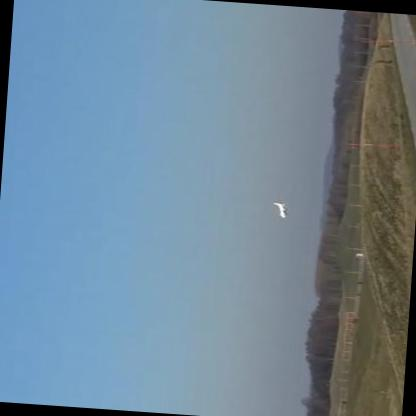plane: (272, 201, 290, 218)
